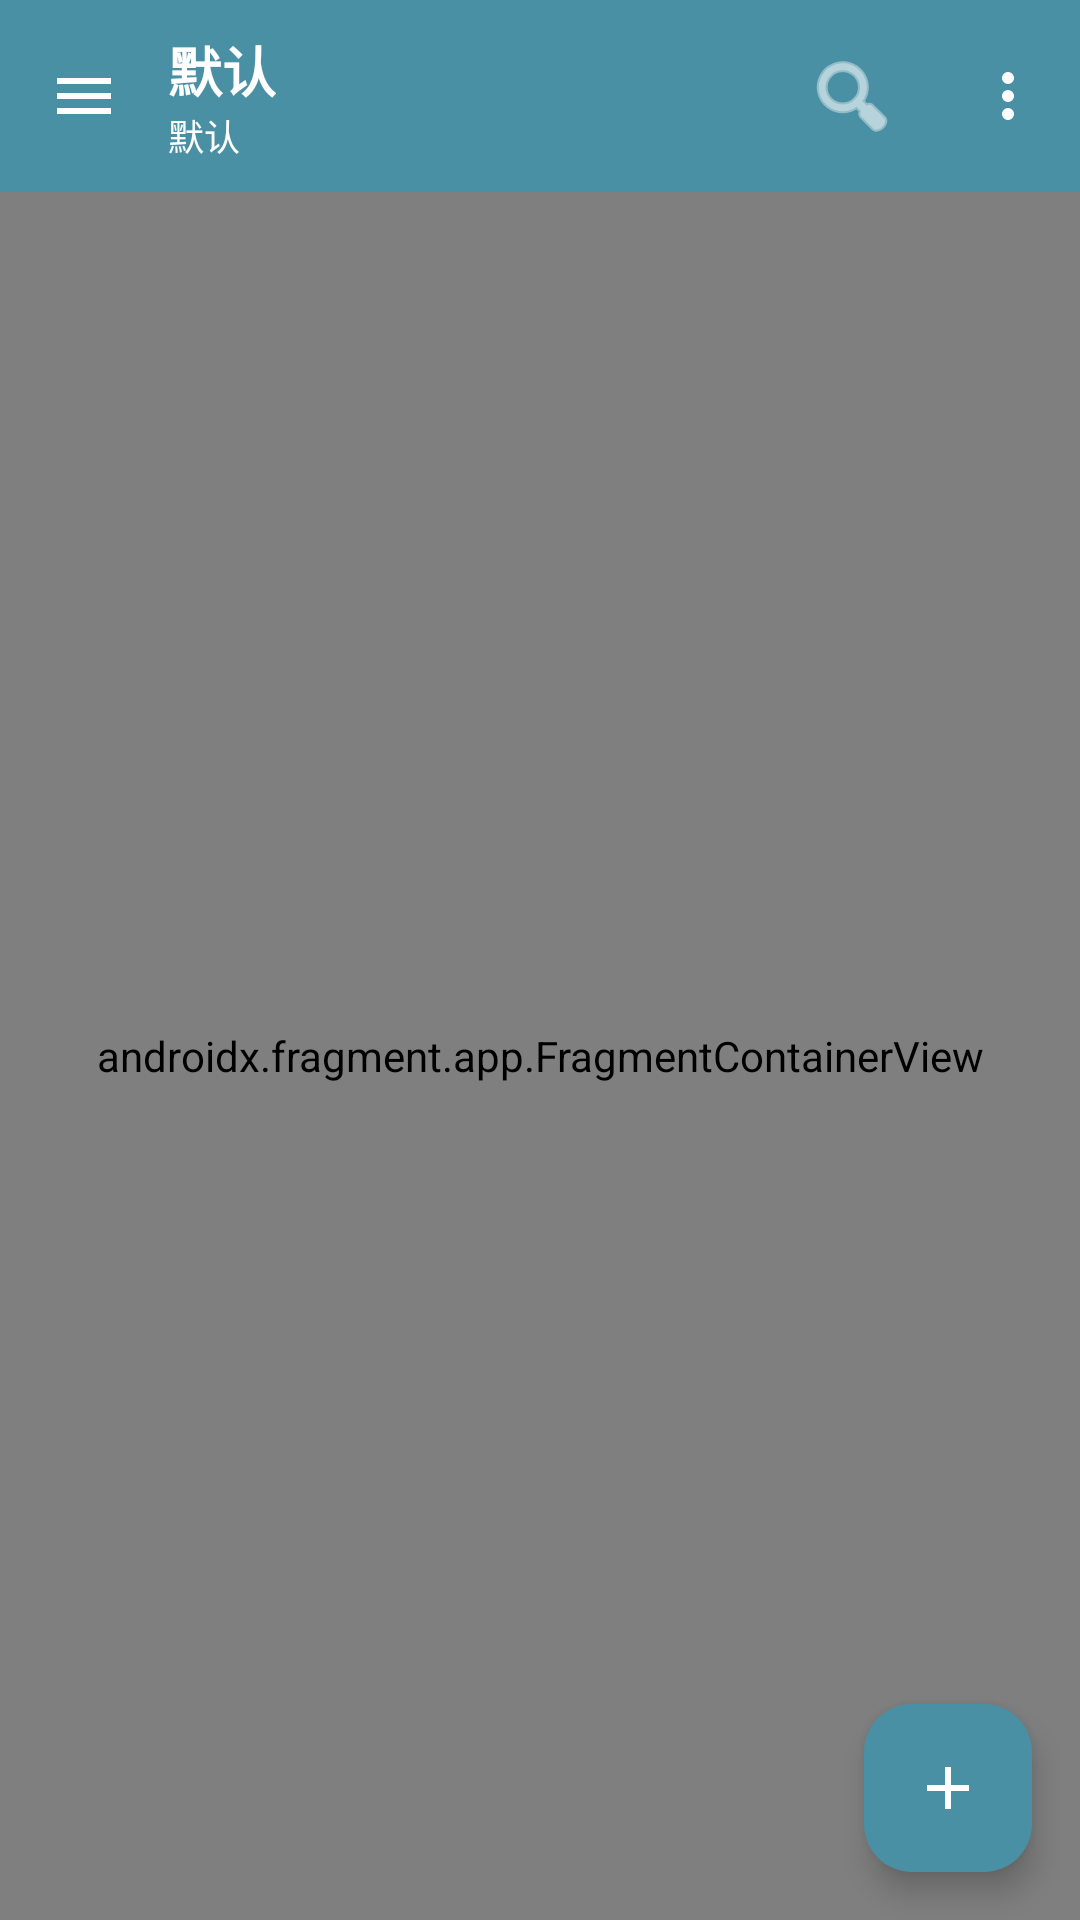

Icon bounding boxes for this 1080x1920 phone screenshot, format BBox(x1, y1, x2, y2):
添加: BBox(864, 1704, 1032, 1872)
